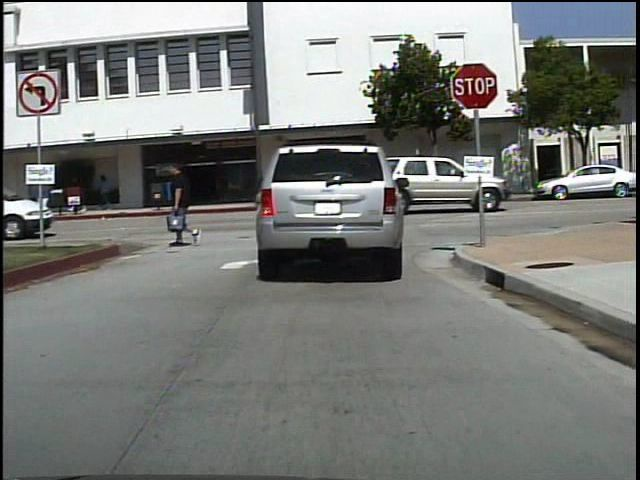person: (159, 159, 206, 251), (73, 171, 97, 216), (95, 173, 117, 212)
